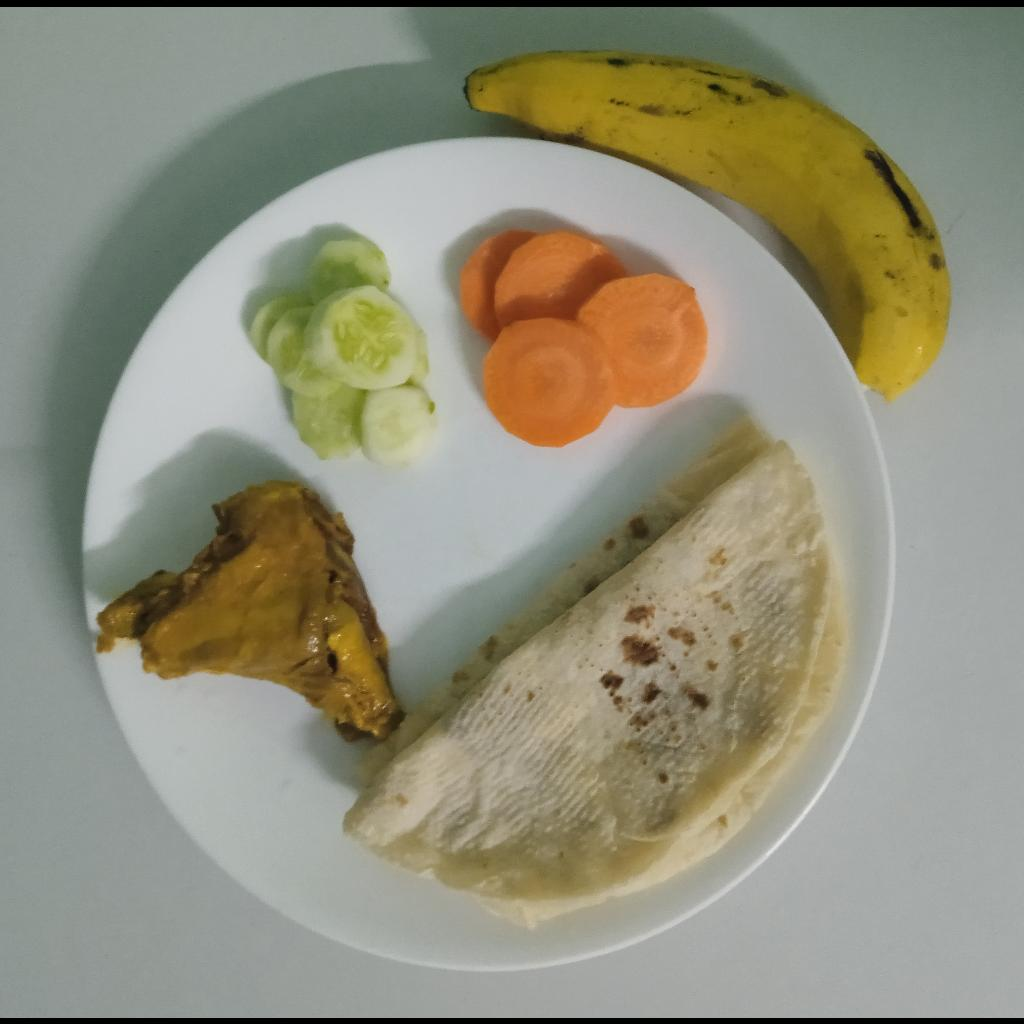banana: (463, 46, 951, 405)
carrot: (454, 228, 712, 445)
chicken: (93, 479, 402, 741)
cucumber: (250, 241, 437, 468)
ruti: (341, 406, 852, 926)
